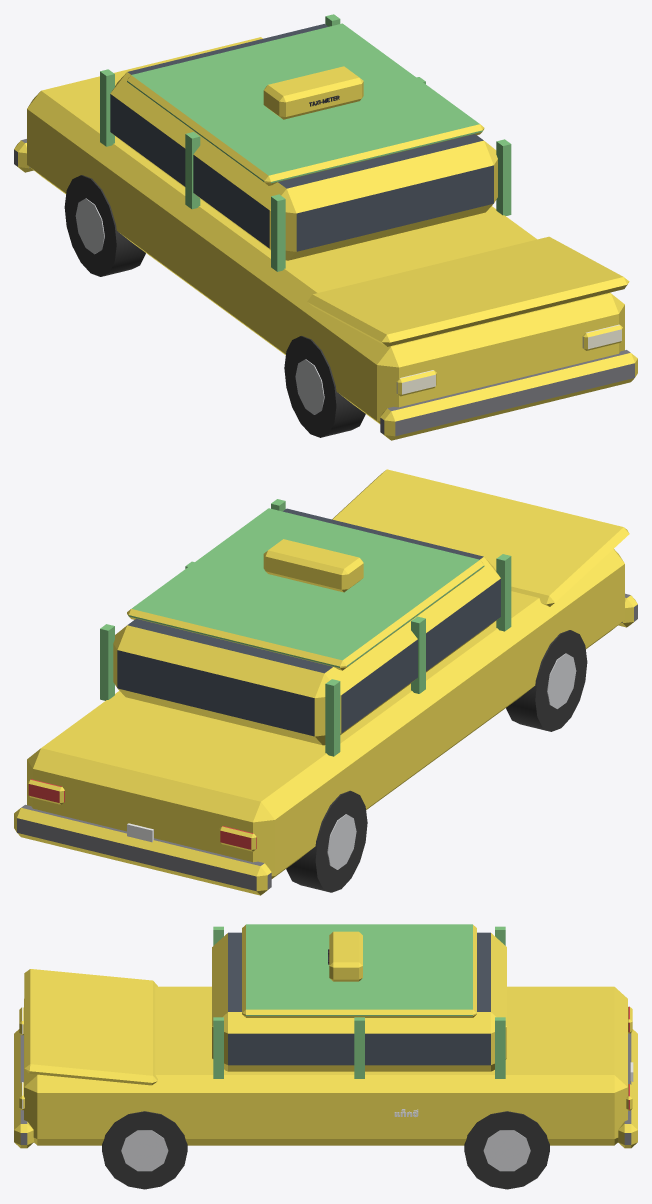
Rendered from SM_Car_Taxi_GreenYellow.fbx.
3 renders of one model, top to bottom at view 1: azimuth 30°, elevation 25°; view 2: azimuth 150°, elevation 25°; view 3: azimuth 270°, elevation 25°, orthographic. The views are drawn at different scales.
Parts seen in each view (by area): view 1: SM_Car_Taxi_GreenYellow; view 2: SM_Car_Taxi_GreenYellow; view 3: SM_Car_Taxi_GreenYellow.
Boxes of the visible parts, <box> form: SM_Car_Taxi_GreenYellow: <box>14,14,637,440</box>; SM_Car_Taxi_GreenYellow: <box>14,469,637,895</box>; SM_Car_Taxi_GreenYellow: <box>14,924,637,1189</box>.
Size of the model in its own units: 1.8 by 1.58 by 4.65.
